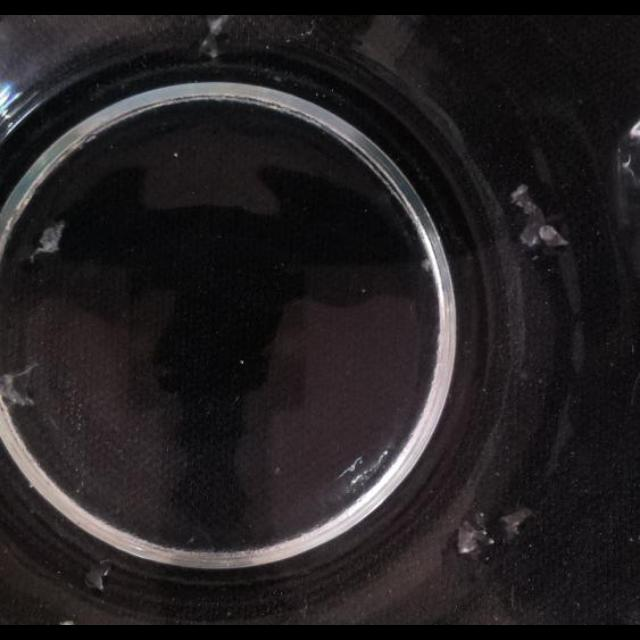Fibre: (457, 504, 531, 558), (511, 183, 567, 251), (2, 366, 40, 408), (199, 16, 231, 58), (33, 222, 67, 258), (456, 518, 488, 556), (84, 564, 110, 594), (421, 256, 432, 272)
microbeads: (60, 620, 74, 626)
